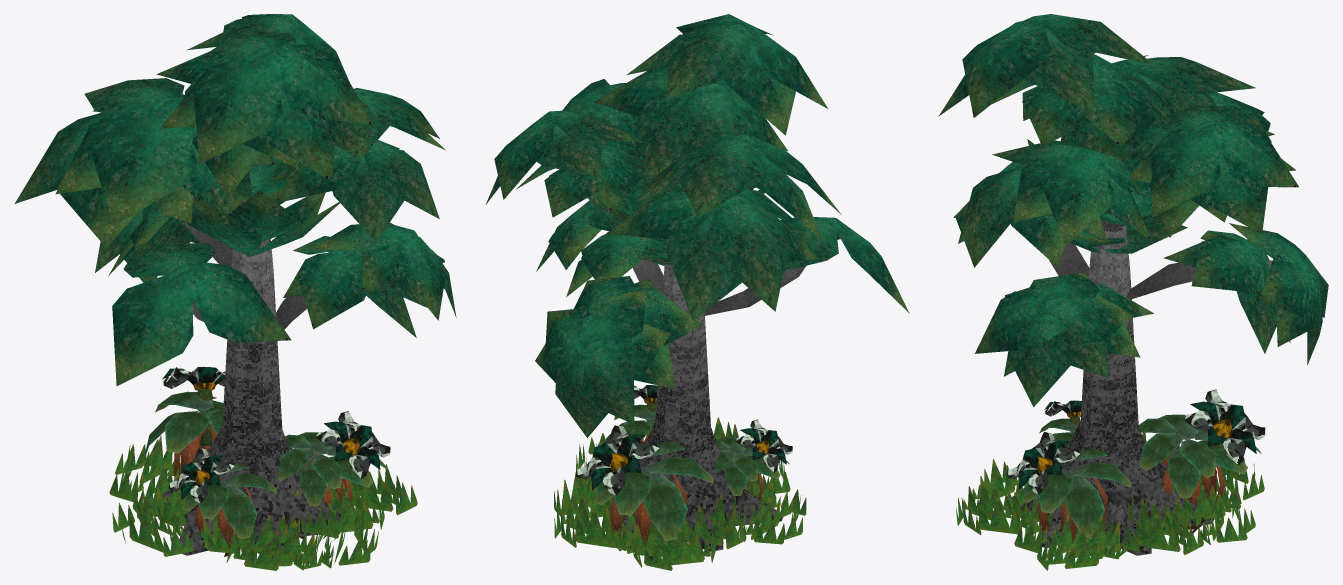
Rendered from prefab_24.glb.
3 views of the same model, side by side, from view 1: azimuth 30°, elevation 25°; view 2: azimuth 150°, elevation 25°; view 3: azimuth 270°, elevation 25° (orthographic). The views are drawn at different scales.
Visible parts, largest first — view 1: PRFB_24; view 2: PRFB_24; view 3: PRFB_24.
Part boxes in pixels (x1=…): PRFB_24: x1=14, y1=14, x2=456, y2=570; PRFB_24: x1=485, y1=14, x2=909, y2=570; PRFB_24: x1=938, y1=14, x2=1328, y2=570.
Bounding box in the file's own units: 5.85 × 8.12 × 5.74.
Materials: 4 (4 with a texture image).
